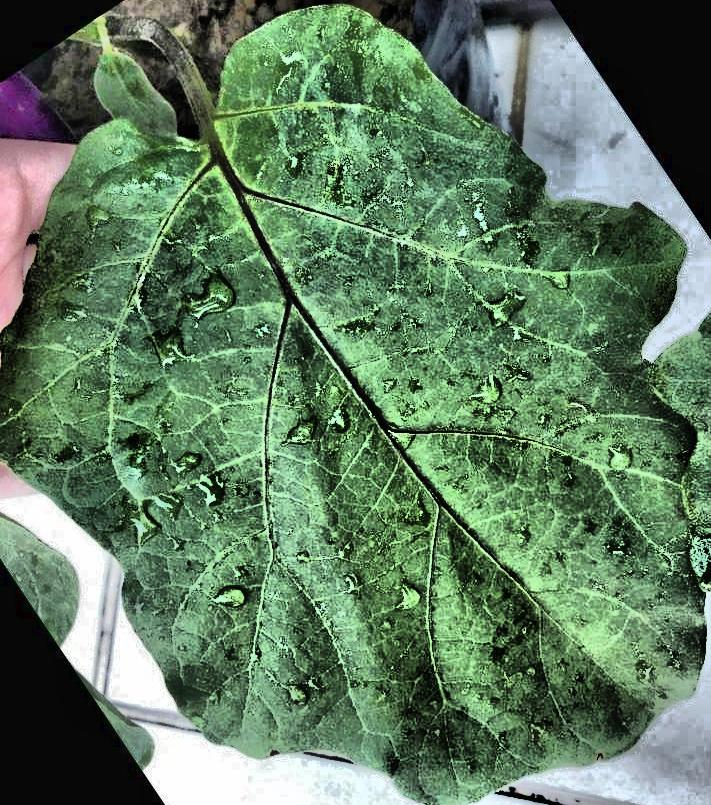HEALTHY: (1, 0, 711, 805)
